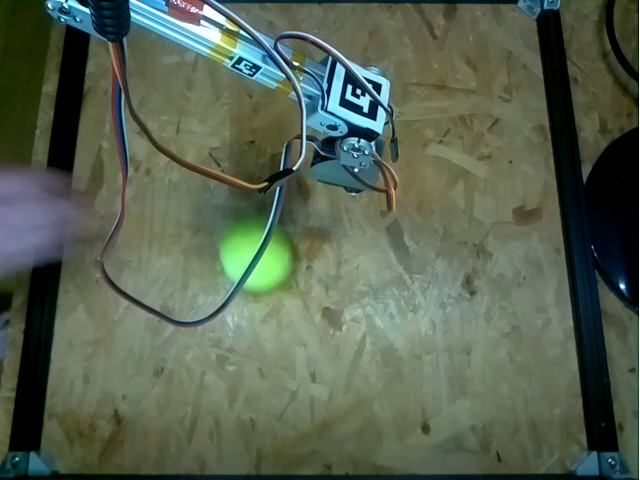tennis_ball: (219, 216, 293, 293)
